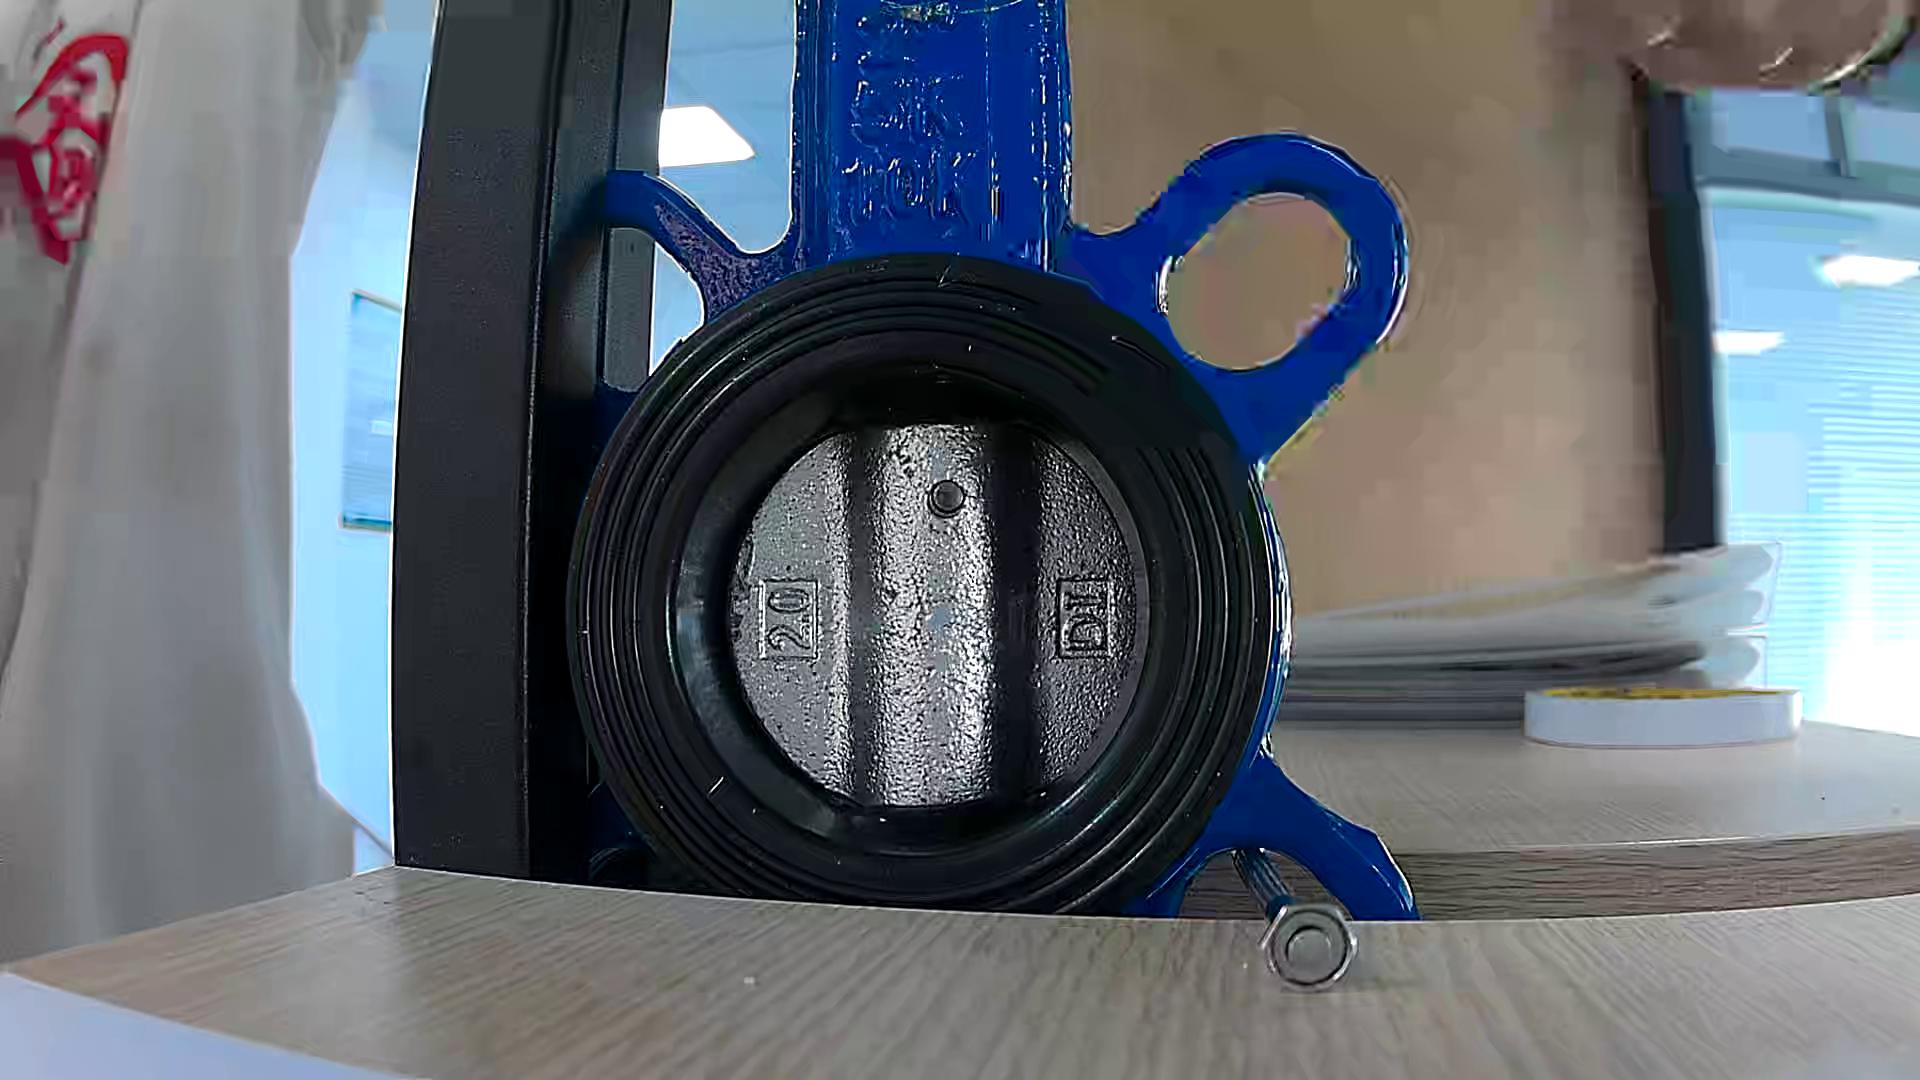valve: (732, 423, 1137, 806)
